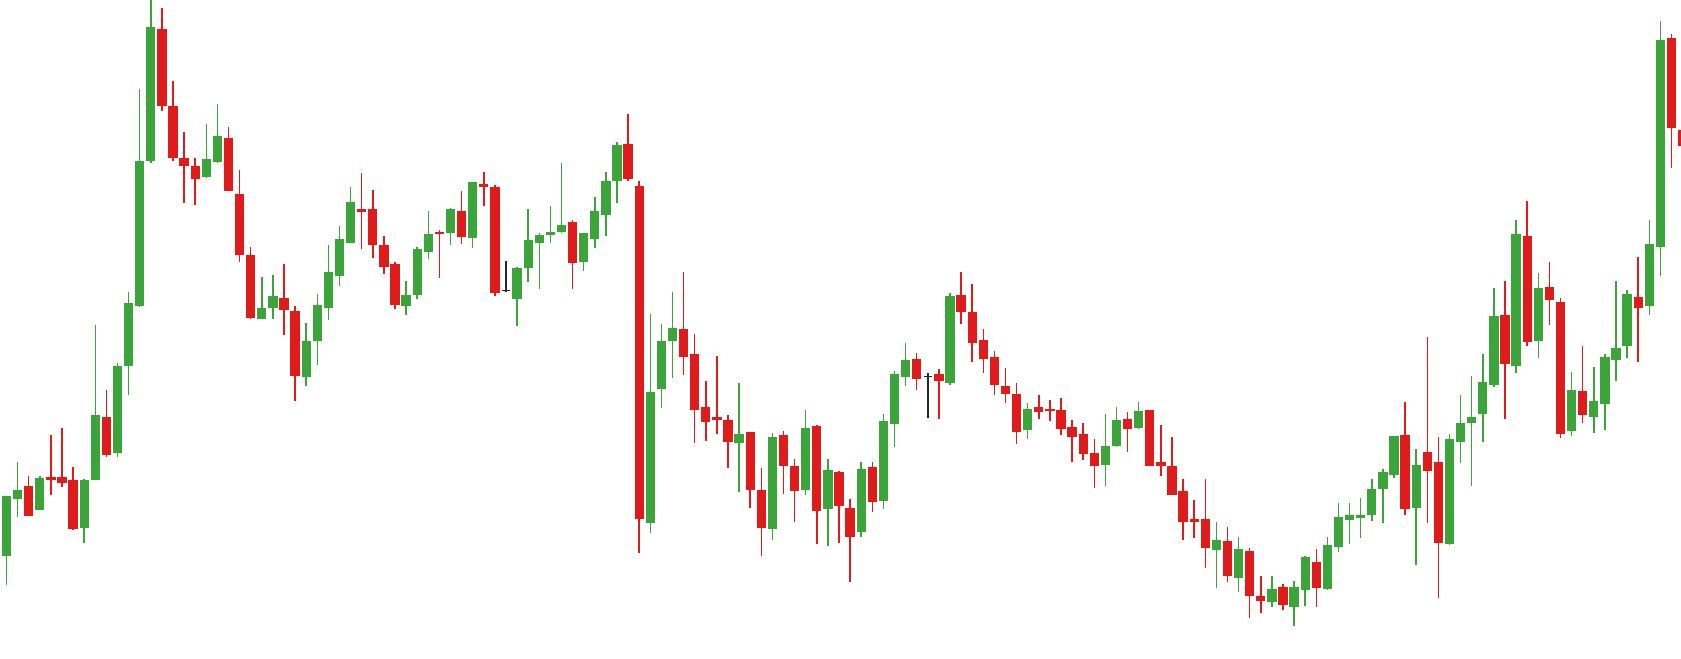buy: (754, 456, 867, 585), (1497, 302, 1578, 441)
sell: (557, 114, 635, 225)
